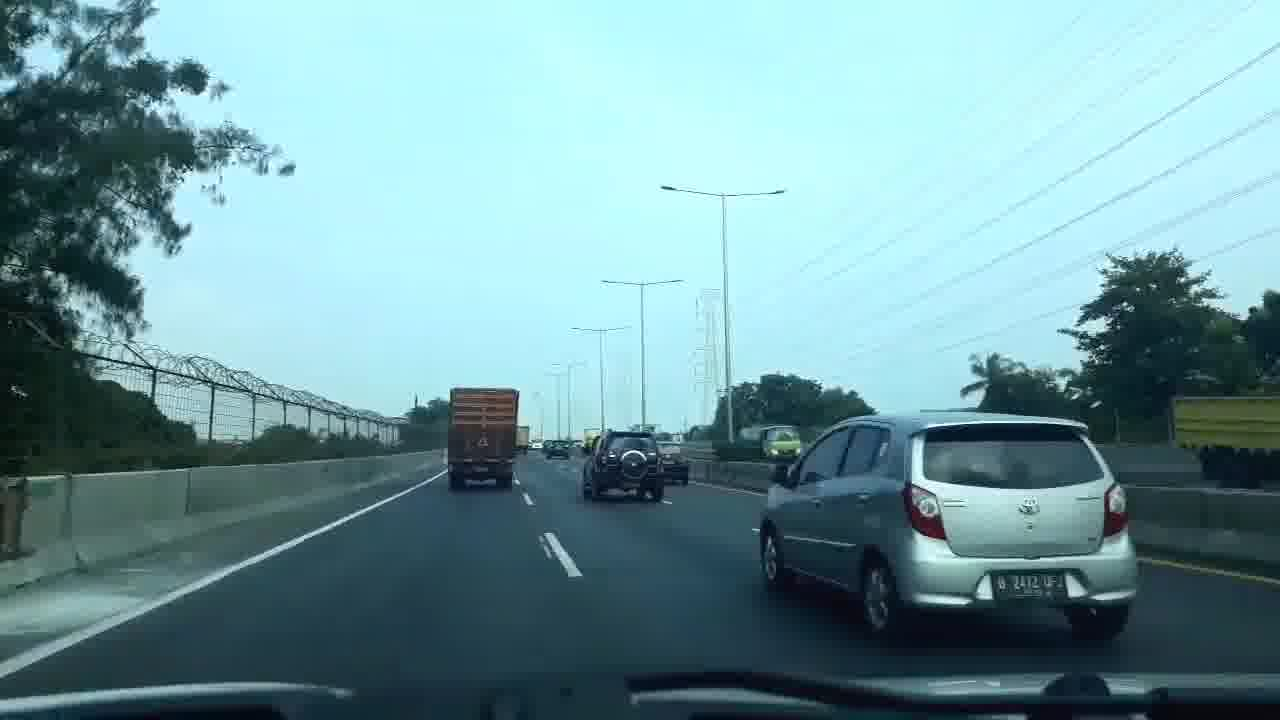plate_positive: (991, 569, 1068, 601)
